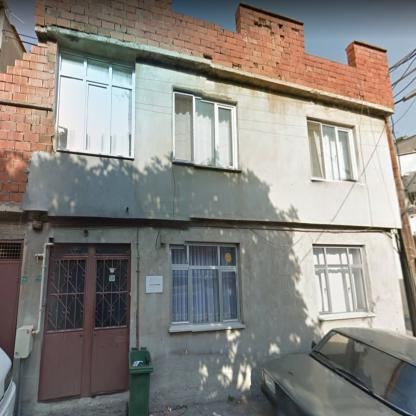door: (39, 243, 131, 399), (1, 240, 23, 359)
window: (54, 48, 134, 157), (171, 242, 240, 326), (174, 93, 236, 167), (313, 247, 369, 313), (308, 120, 358, 181)
